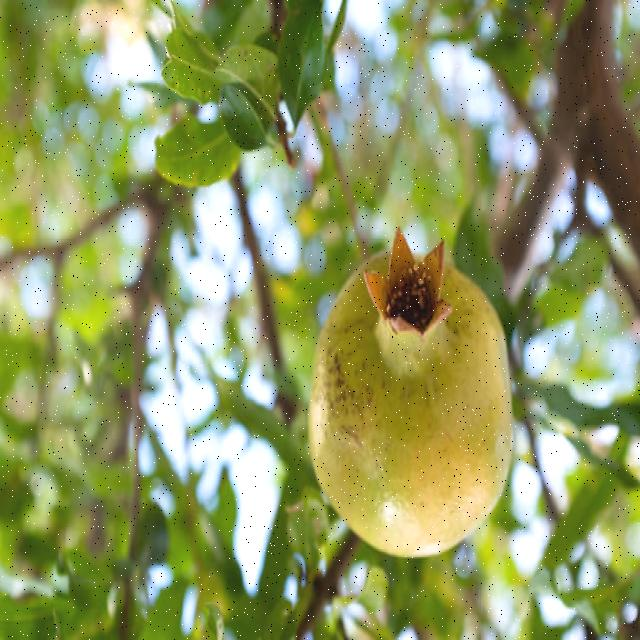Unripe: (310, 228, 514, 562)
